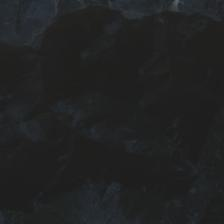landslides: (120, 6, 143, 21), (73, 13, 91, 27), (41, 58, 50, 74), (168, 0, 176, 14), (10, 27, 18, 40)
